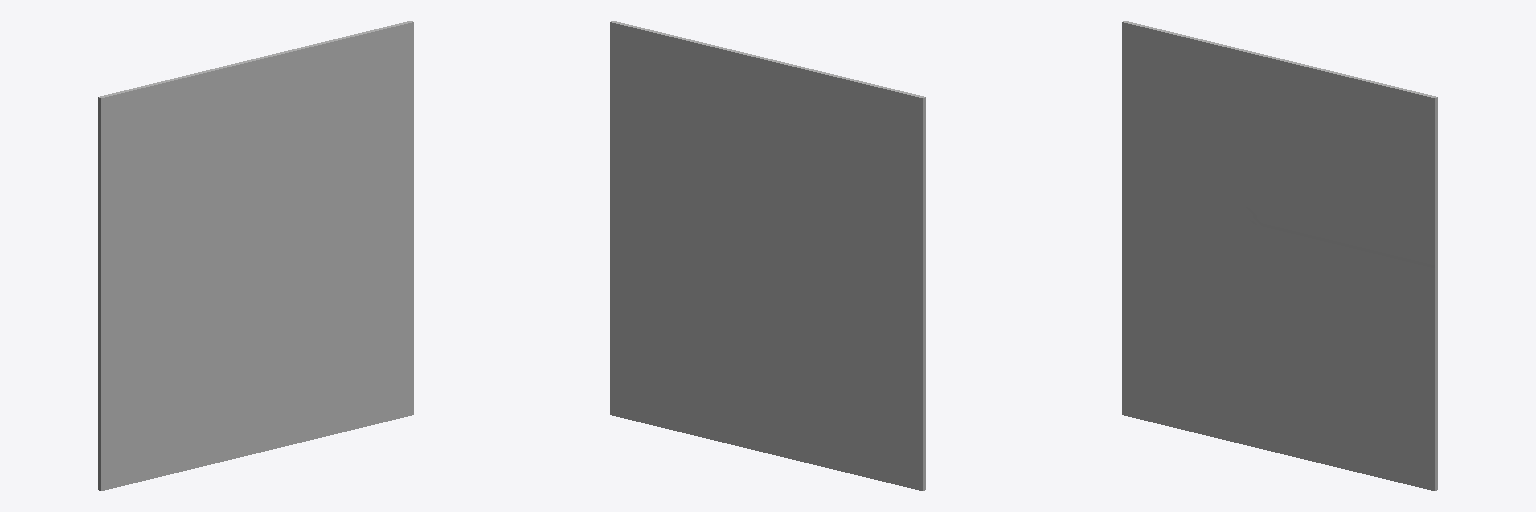
The robot description file, URDF, robot "root":
<robot name="root">
  <link name="link_001">
    <visual>
      <origin xyz="0 0 0" rpy="0 0 0"/>
      <geometry>
        <mesh filename="table.obj" scale="1.2500E+00 1.2500E+00 1.2500E+00"/>
      </geometry>
      <material name="">
        <color rgba="7.50E-01 7.50E-01 7.50E-01 1"/>
      </material>
    </visual>
    <collision>
      <origin xyz="0 0 0" rpy="0 0 0"/>
      <geometry>
        <mesh filename="table.obj" scale="1.2500E+00 1.2500E+00 1.2500E+00"/>
      </geometry>
    </collision>
    <inertial>
      <mass value="0.16"/> <!-- 质量：0.1kg -->
    </inertial>
  </link>
</robot>

--- What the picture shows (computed from the rendered views, not written in the file) ---
The picture shows the robot from 3 angles, left to right: view 1: azimuth 30°, elevation 25°; view 2: azimuth 150°, elevation 25°; view 3: azimuth 330°, elevation 25°; orthographic projection.
Robot: root — 1 links, 0 joints (none); root link link_001; default pose: all joints at 0.
Visible links, largest first — view 1: link_001; view 2: link_001; view 3: link_001.
Link boxes in pixels (x1,y1,x2,y2): link_001: (98,21,413,490); link_001: (610,21,925,490); link_001: (1122,21,1437,490).
Size in the robot's own frame: 0.5625 by 0.0069 by 0.675 metres.
Meshes: 1 distinct files referenced, 1 mesh visuals loaded (1 OBJ).
